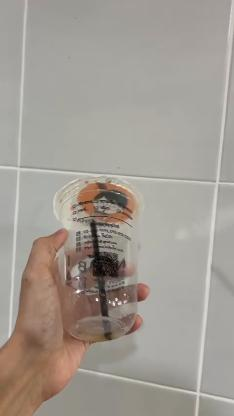Plastic Cup: (54, 174, 144, 344)
